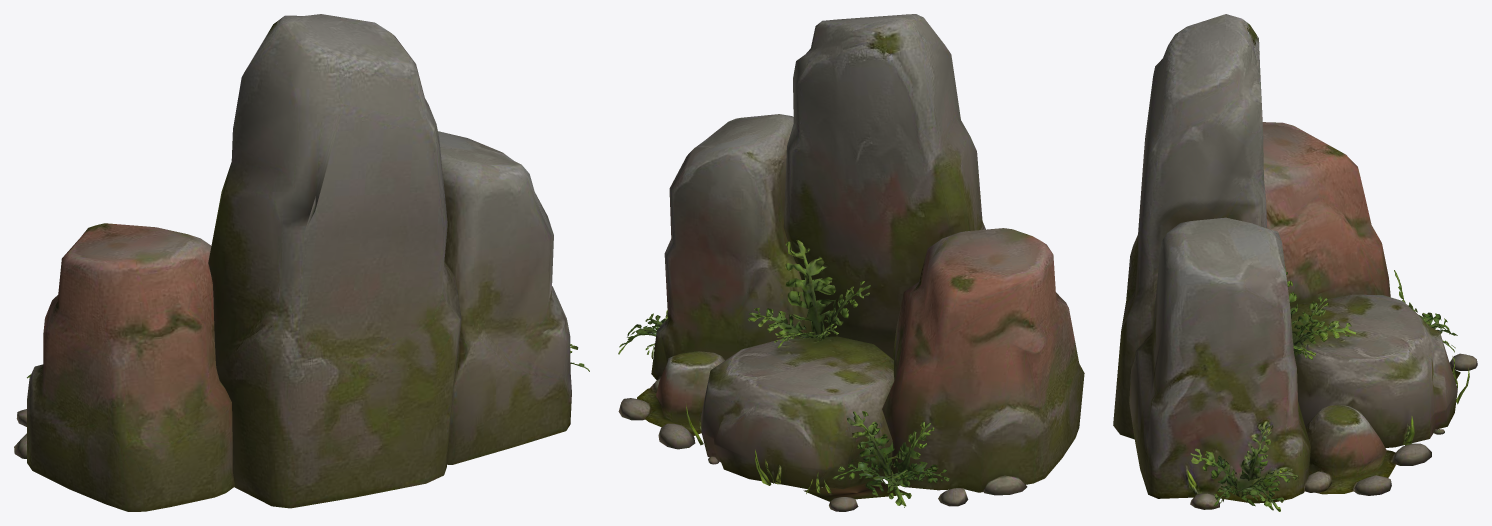
Rendered from rock_set.glb.
3 views of the same model, side by side, from view 1: azimuth 30°, elevation 25°; view 2: azimuth 150°, elevation 25°; view 3: azimuth 270°, elevation 25° (orthographic). The views are drawn at different scales.
Visible parts, largest first — view 1: Body; view 2: Body; view 3: Body.
Part boxes in pixels (<box>): Body: <box>14,14,589,511</box>; Body: <box>618,14,1084,511</box>; Body: <box>1113,14,1477,511</box>.
Bounding box in the file's own units: 6 × 4.94 × 4.29.
1 material, 1 textured.
